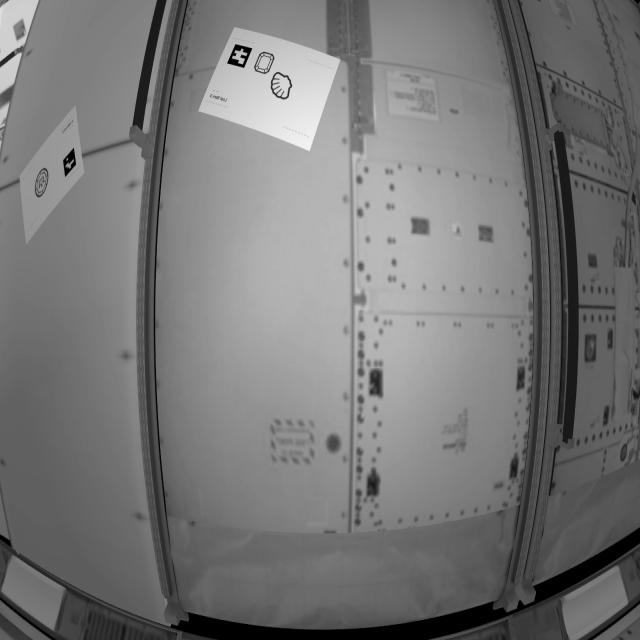coin: (34, 168, 57, 202)
emerald: (255, 49, 279, 80)
shell: (268, 70, 297, 101)
